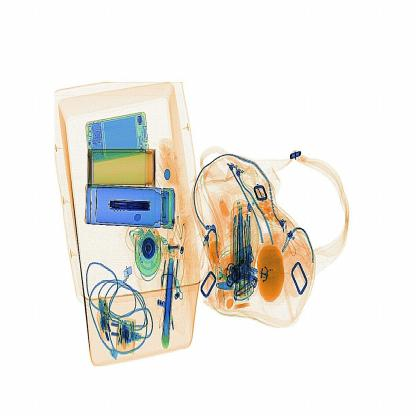scissors: (106, 188, 168, 224)
